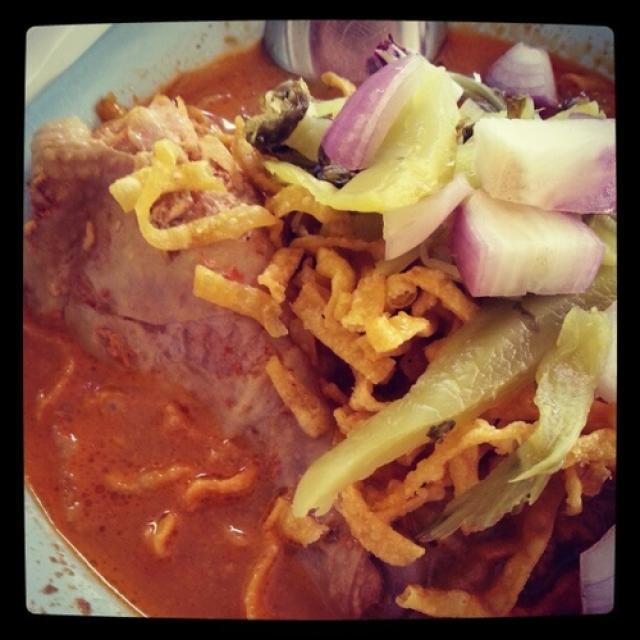面条主食: (33, 32, 610, 611)
